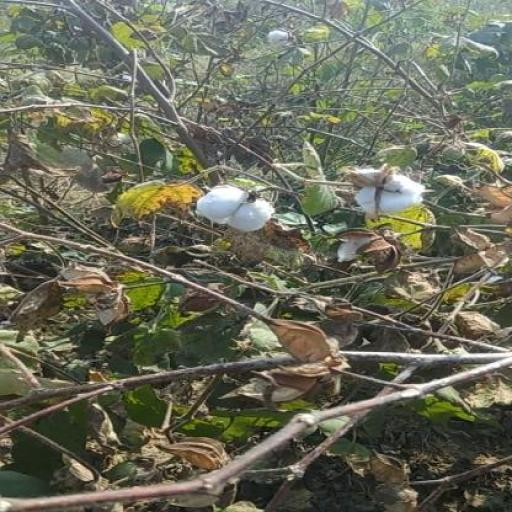cotton_ready: (320, 162, 447, 238), (186, 185, 290, 238)
